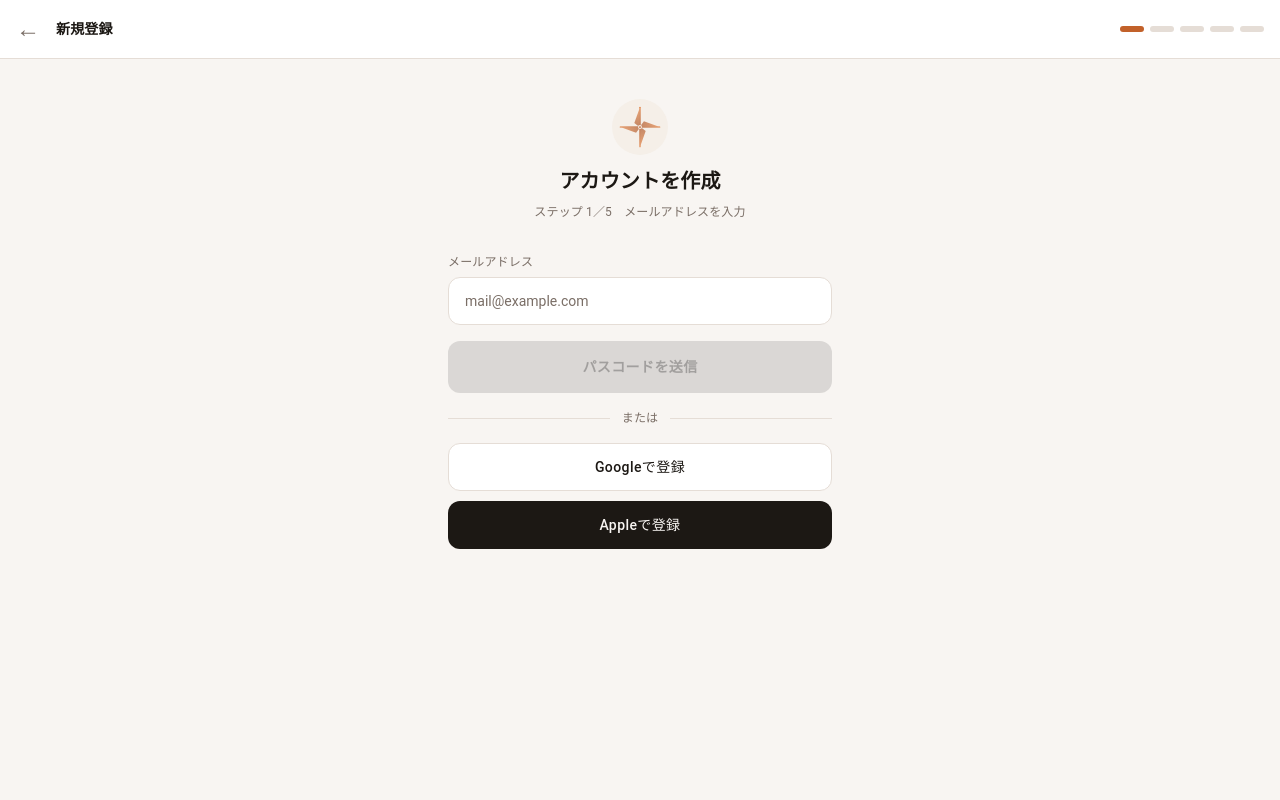
Test: RegisterPage › メールアドレス入力からモック準拠のパスコード確認画面へ進む
Expected: the heading "アカウントを作成" is shown, [559, 167, 721, 195]
Expected: the text "ステップ 1／5 メールアドレスを入力" is shown, [534, 203, 746, 221]
Type "new-member@example.com" into the field labelled "メールアドレス" at (640, 301), box [448, 277, 832, 325]
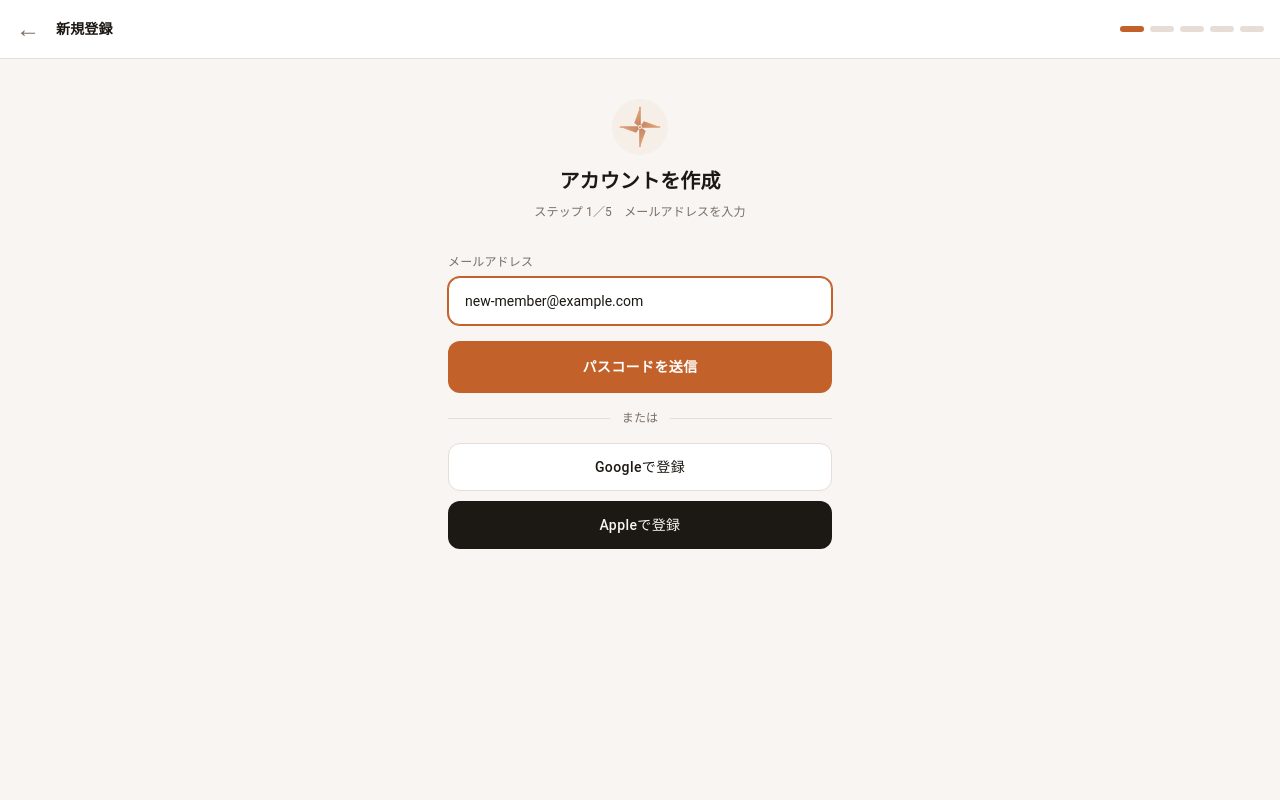
Click the button "パスコードを送信" at (640, 367), box [448, 341, 832, 393]
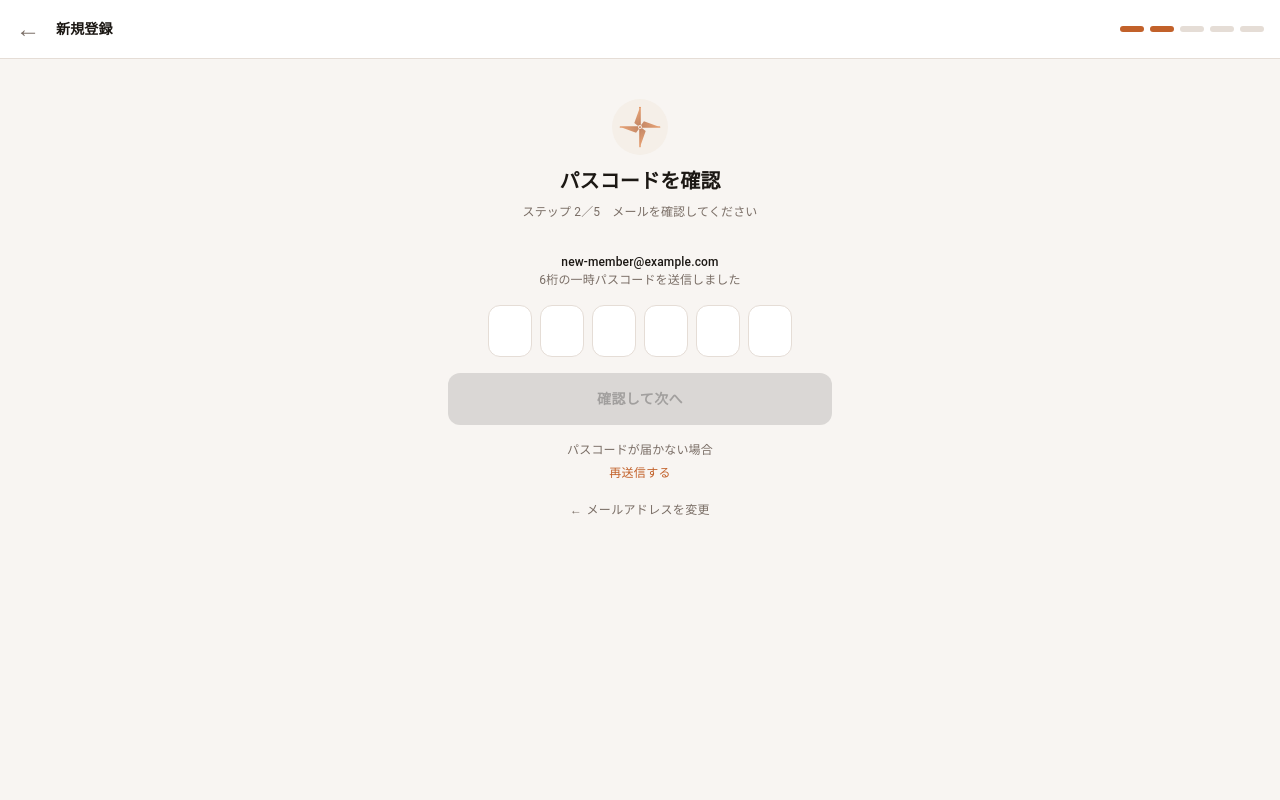
Expected: the heading "パスコードを確認" is shown, [559, 167, 721, 195]
Expected: the text "ステップ 2／5 メールを確認してください" is shown, [522, 203, 757, 221]
Expected: the text "new-member@example.com" is shown, [561, 255, 719, 269]
